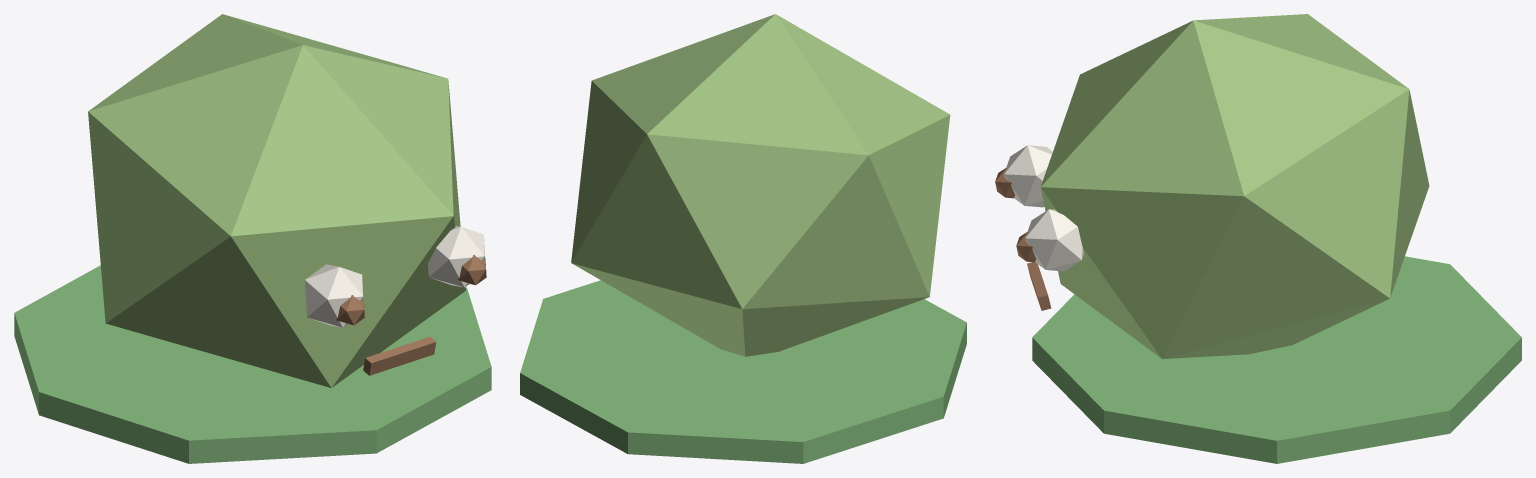
File: npcpose_slime_attack_04.glb
The picture shows the model from 3 angles, left to right: view 1: azimuth 30°, elevation 25°; view 2: azimuth 150°, elevation 25°; view 3: azimuth 270°, elevation 25°; orthographic projection. The views are drawn at different scales.
Visible parts, largest first — view 1: npcpose; view 2: npcpose; view 3: npcpose.
Part boxes in pixels (x1=…): npcpose: x1=14, y1=14, x2=491, y2=463; npcpose: x1=520, y1=14, x2=966, y2=463; npcpose: x1=995, y1=14, x2=1521, y2=463.
Size of the model in its own units: 0.96 by 0.744 by 1.03.
